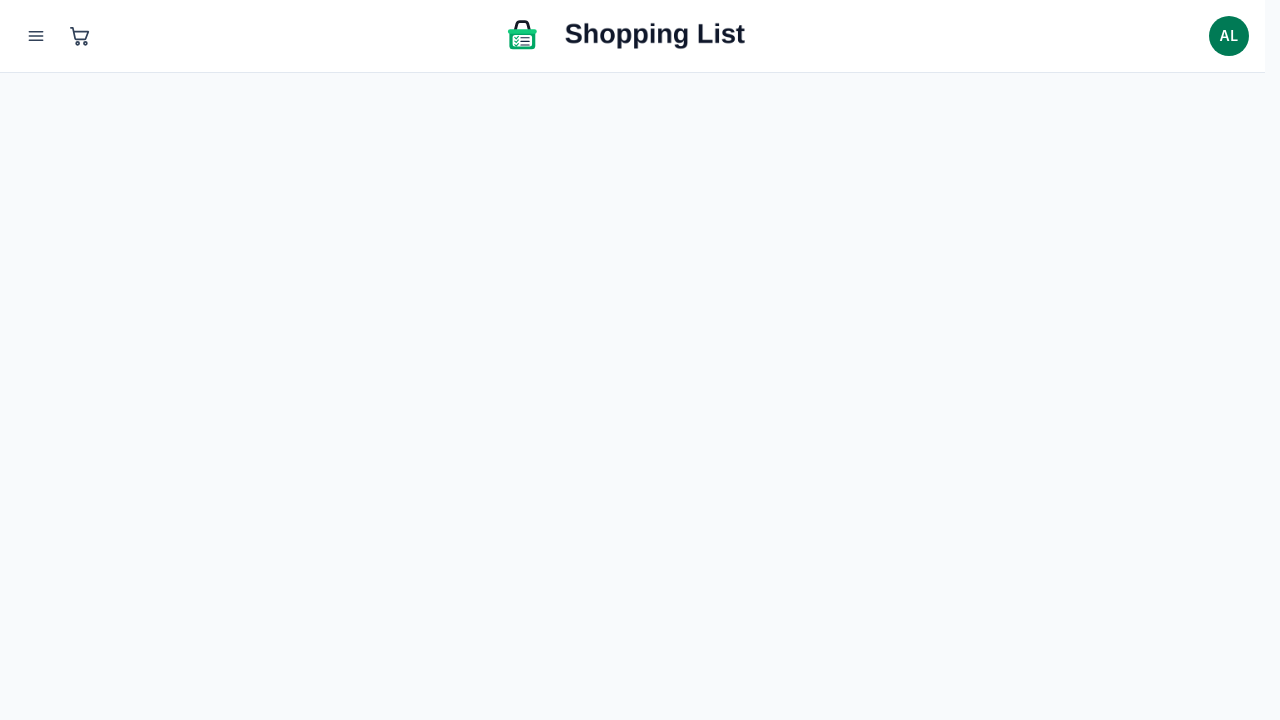
Test: app-shell/AppHeader › opens the mobile menu with active route styling and no categories item
This screenshot has width=1280, height=720.
Click the button named "Abrir menú de navegación": (36, 36) [16,16,56,56]
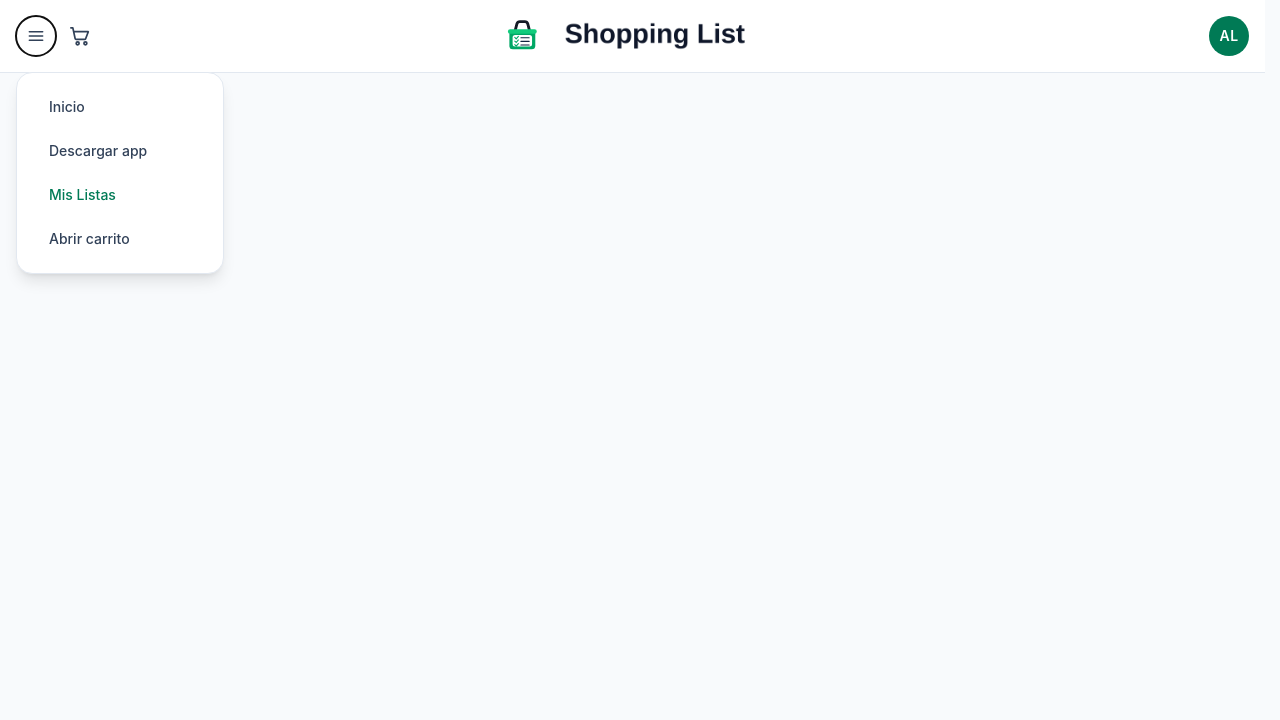
Now the dialog named "Menú de navegación" is shown, box [16,72,224,274]
